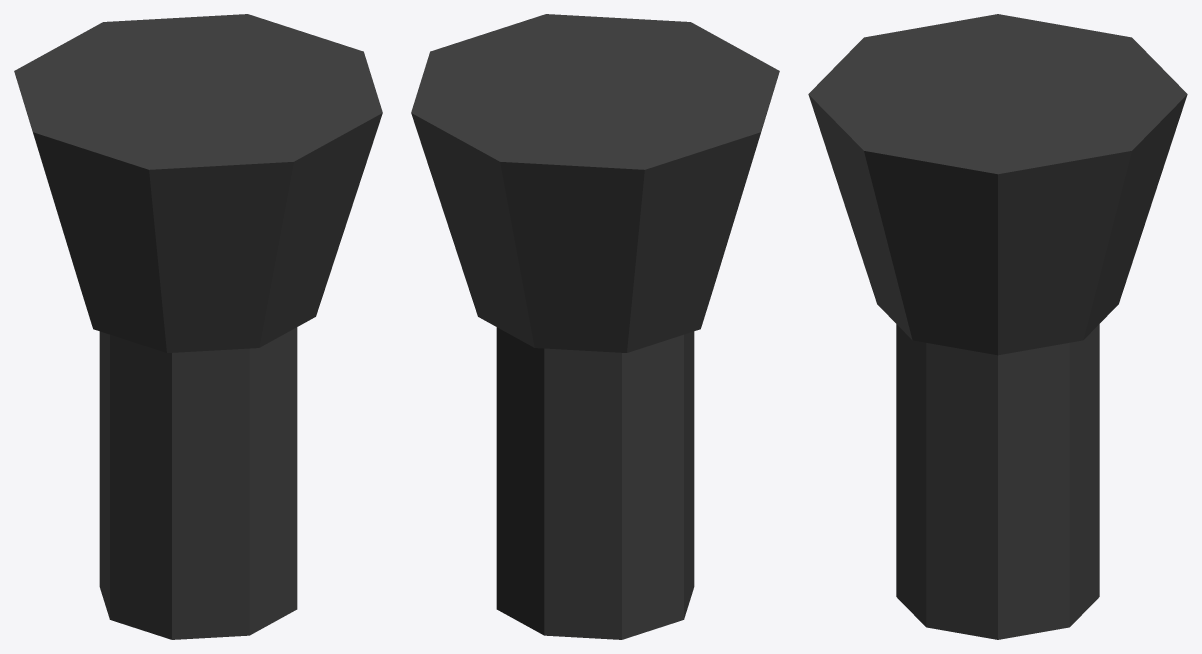
Rendered from woodstovepipe03.gltf.
3 views of the same model, side by side, from view 1: azimuth 30°, elevation 25°; view 2: azimuth 150°, elevation 25°; view 3: azimuth 270°, elevation 25° (orthographic).
Parts seen in each view (by area): view 1: Cylinder; view 2: Cylinder; view 3: Cylinder.
Part boxes in pixels (left/top/right/bottom): Cylinder: left=14, top=14, right=382, bottom=639; Cylinder: left=411, top=14, right=779, bottom=639; Cylinder: left=808, top=14, right=1187, bottom=639.
Size of the model in its own units: 0.3349 by 0.49 by 0.3349.
Materials: 1 (1 with a texture image).
